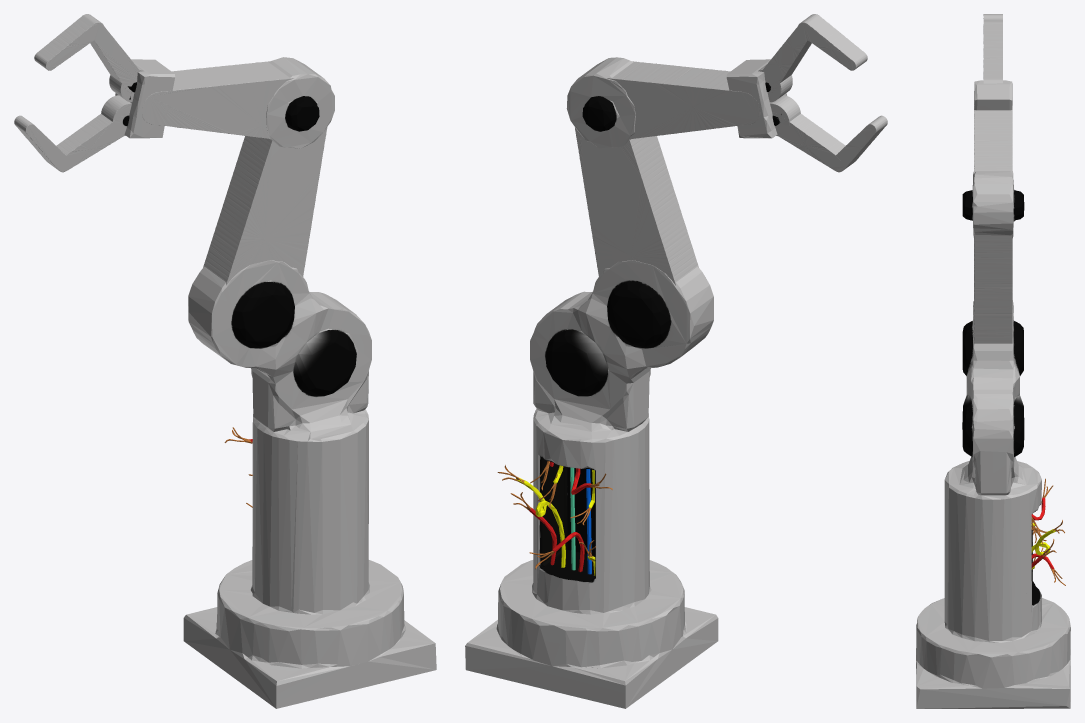
Rendered from roboterarm_kaputt.glb.
3 renders of one model, left to right at view 1: azimuth 30°, elevation 25°; view 2: azimuth 150°, elevation 25°; view 3: azimuth 270°, elevation 25°, orthographic. The views are drawn at different scales.
Parts seen in each view (by area): view 1: 283512_23_05_25_13_54_47_0, 283512_23_05_25_13_54_47_1; view 2: 283512_23_05_25_13_54_47_0, 283512_23_05_25_13_54_47_1, 283512_23_05_25_13_54_47_4, 283512_23_05_25_13_54_47_3; view 3: 283512_23_05_25_13_54_47_0, 283512_23_05_25_13_54_47_1, 283512_23_05_25_13_54_47_4.
Part boxes in pixels (<box>): 283512_23_05_25_13_54_47_0: <box>115,57,436,708</box>; 283512_23_05_25_13_54_47_1: <box>14,14,327,285</box>; 283512_23_05_25_13_54_47_0: <box>465,57,786,708</box>; 283512_23_05_25_13_54_47_1: <box>575,14,887,285</box>; 283512_23_05_25_13_54_47_4: <box>516,461,595,575</box>; 283512_23_05_25_13_54_47_3: <box>770,95,800,135</box>; 283512_23_05_25_13_54_47_0: <box>916,80,1070,708</box>; 283512_23_05_25_13_54_47_1: <box>974,14,1012,343</box>; 283512_23_05_25_13_54_47_4: <box>1031,497,1055,569</box>.
Size of the model in its own units: 27.21 by 48.34 by 11.83.
13 materials, 13 textured.
